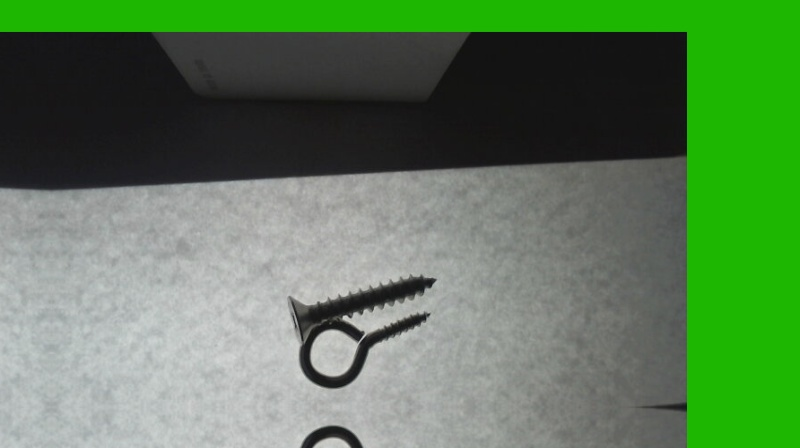O001: (293, 308, 432, 389)
S001: (289, 275, 439, 342)
